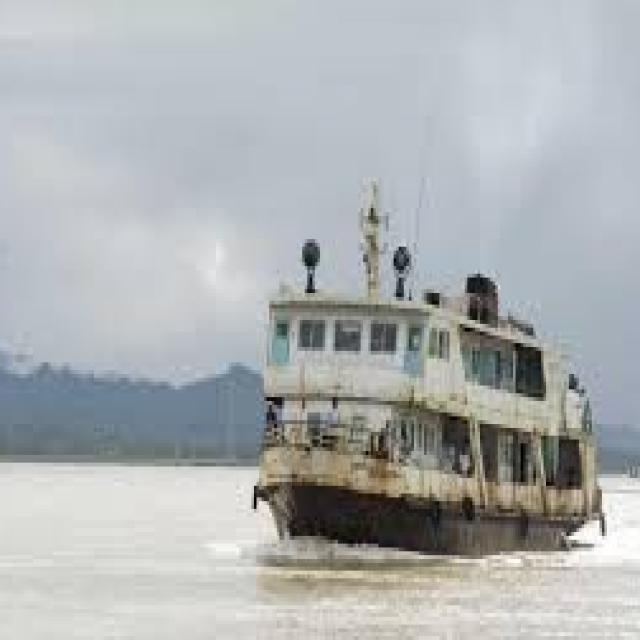passenger ship: (250, 224, 607, 552)
